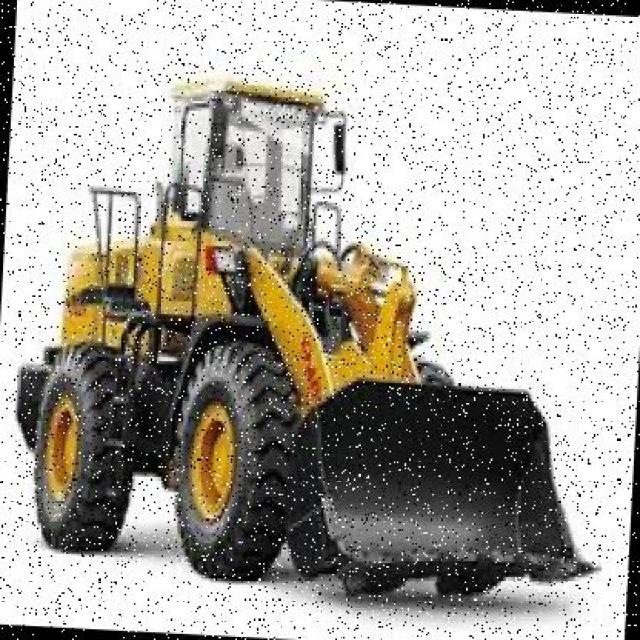buldozerpayloadergrader: (3, 60, 626, 600)
